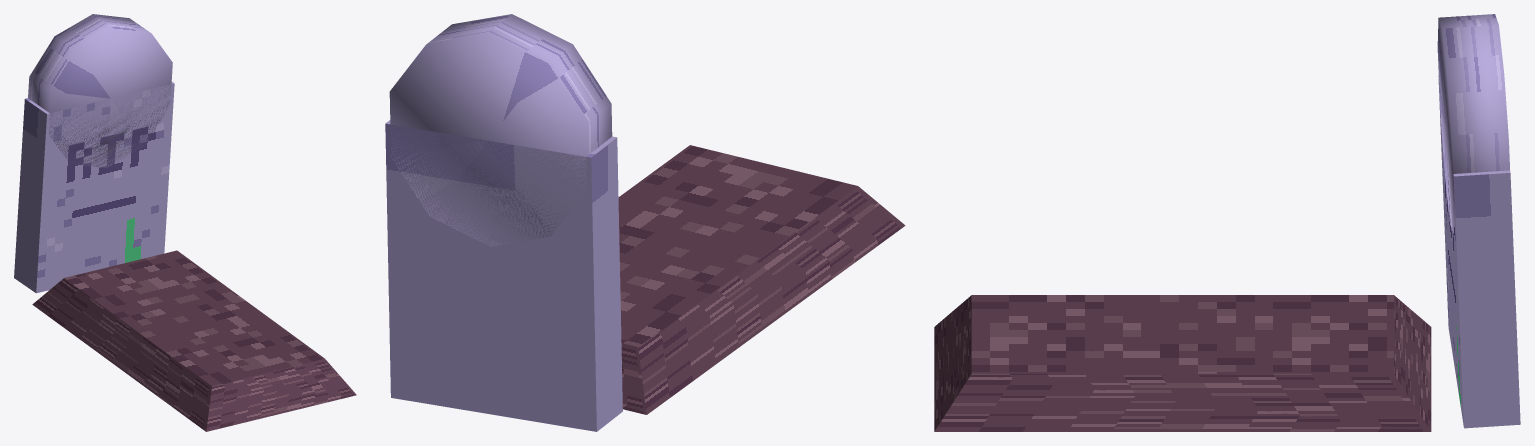
File: Gravestone.fbx
3 views of the same model, side by side, from view 1: azimuth 30°, elevation 25°; view 2: azimuth 150°, elevation 25°; view 3: azimuth 270°, elevation 25° (orthographic). The views are drawn at different scales.
Parts seen in each view (by area): view 1: Gravestone mound, Gravestone slab, Gravestone top; view 2: Gravestone slab, Gravestone mound, Gravestone top; view 3: Gravestone mound, Gravestone slab, Gravestone top.
Boxes of the visible parts, x1,y1,x2,y2 form: Gravestone mound: (32,250,356,431); Gravestone slab: (14,81,174,293); Gravestone top: (28,14,172,167); Gravestone slab: (385,120,622,431); Gravestone mound: (618,145,905,414); Gravestone top: (389,14,612,246); Gravestone mound: (934,295,1431,431); Gravestone slab: (1438,76,1520,428); Gravestone top: (1437,14,1509,234).
Size of the model in its own units: 0.7 by 1.13 by 1.65.
Materials: 3 (3 with a texture image).
